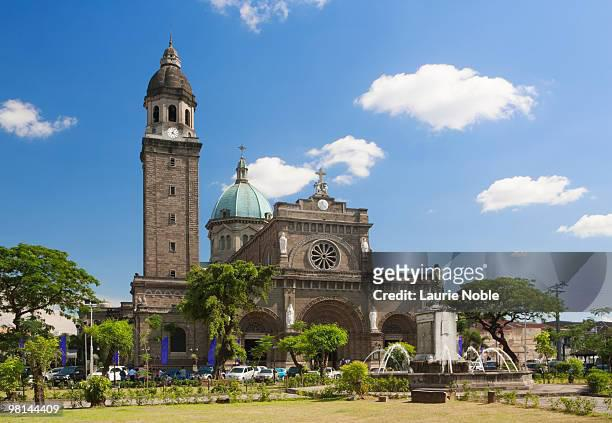manila_cathedral_church_intramuros_manila: (123, 29, 388, 366)
